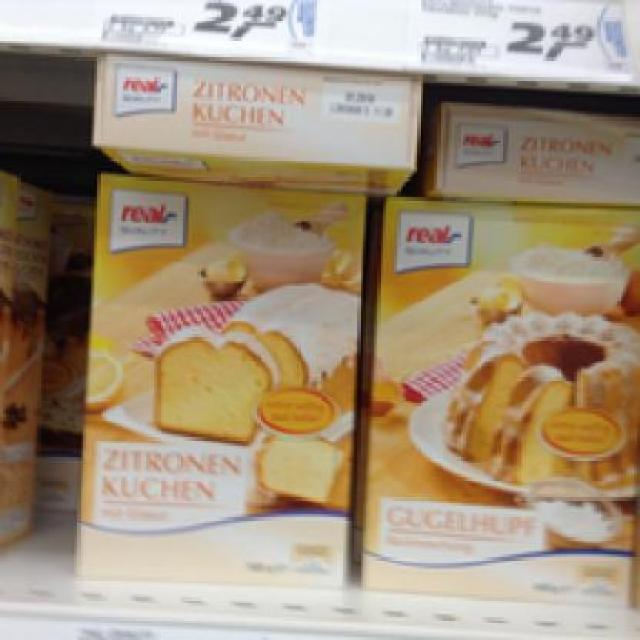Cake: (68, 163, 366, 600), (363, 188, 637, 608)
